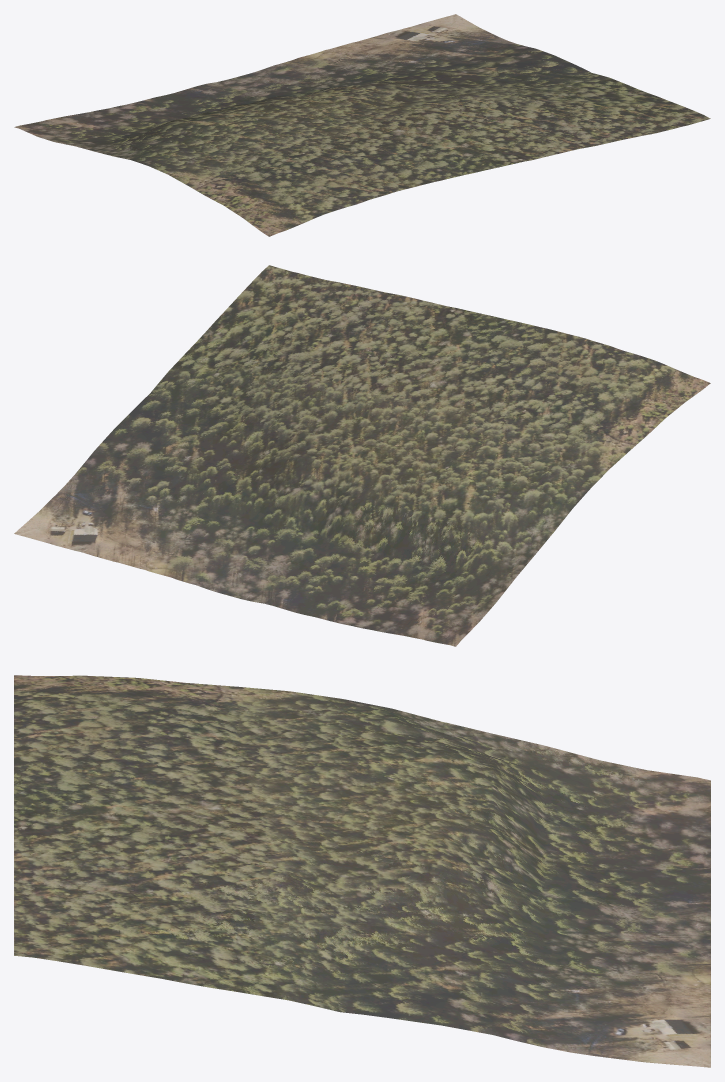
Rendered from CM_Terrain_24493326_6816927.fbx.
3 views of the same model, one above another, from view 1: azimuth 30°, elevation 25°; view 2: azimuth 150°, elevation 25°; view 3: azimuth 270°, elevation 25° (orthographic). The views are drawn at different scales.
Parts seen in each view (by area): view 1: CM_Terrain_24493326_6816927_LOD0; view 2: CM_Terrain_24493326_6816927_LOD0; view 3: CM_Terrain_24493326_6816927_LOD0.
Part boxes in pixels (x1,y1,x2,y2): CM_Terrain_24493326_6816927_LOD0: [14, 14, 710, 236]; CM_Terrain_24493326_6816927_LOD0: [14, 265, 710, 646]; CM_Terrain_24493326_6816927_LOD0: [14, 675, 710, 1067].
Size of what is drawn, in the model's own units: 205 by 42.75 by 205.
